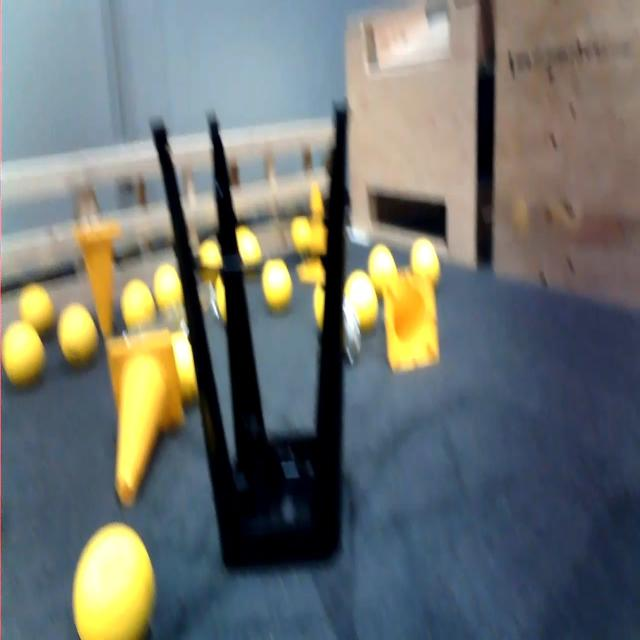fuel: (63, 513, 162, 640), (54, 295, 105, 372), (1, 315, 52, 388), (167, 320, 205, 412), (343, 258, 383, 331), (149, 250, 188, 323), (255, 254, 298, 320), (119, 275, 157, 336), (363, 234, 401, 295), (15, 277, 56, 332), (407, 230, 445, 288), (235, 212, 267, 275), (283, 211, 315, 258), (212, 278, 236, 331), (193, 231, 221, 273), (311, 277, 329, 334)
